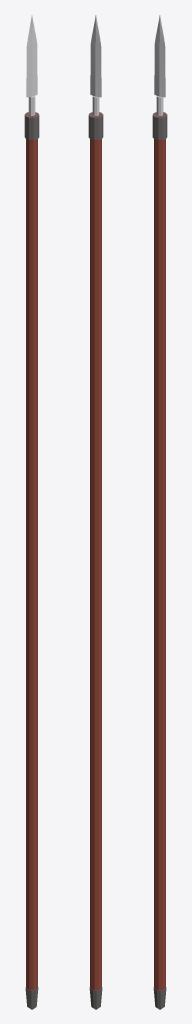
File: yari.glb
The picture shows the model from 3 angles, left to right: view 1: azimuth 30°, elevation 25°; view 2: azimuth 150°, elevation 25°; view 3: azimuth 330°, elevation 25°; orthographic projection.
Parts seen in each view (by area): view 1: e, hosaki, kuchigane, ishizuki, kerakubi; view 2: e, hosaki, kuchigane, ishizuki, kerakubi; view 3: e, hosaki, kuchigane, ishizuki, kerakubi.
Part boxes in pixels (x1=…): e: x1=26, y1=113, x2=37, y2=989; hosaki: x1=26, y1=15, x2=37, y2=97; kuchigane: x1=24, y1=112, x2=39, y2=139; ishizuki: x1=25, y1=987, x2=38, y2=1009; kerakubi: x1=28, y1=96, x2=35, y2=115; e: x1=90, y1=112, x2=101, y2=989; hosaki: x1=90, y1=15, x2=101, y2=97; kuchigane: x1=88, y1=112, x2=103, y2=139; ishizuki: x1=89, y1=987, x2=102, y2=1009; kerakubi: x1=92, y1=96, x2=99, y2=115; e: x1=154, y1=112, x2=165, y2=989; hosaki: x1=154, y1=15, x2=165, y2=97; kuchigane: x1=152, y1=112, x2=167, y2=139; ishizuki: x1=153, y1=987, x2=166, y2=1009; kerakubi: x1=156, y1=96, x2=163, y2=115.
Size of the model in its own units: 0.036 by 2.67 by 0.0342.
